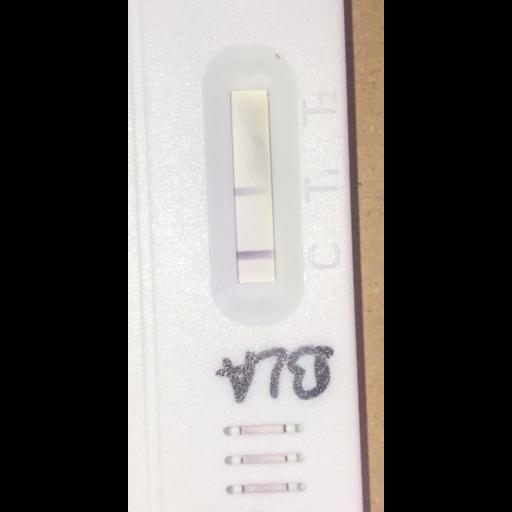Pos: (128, 0, 364, 510)
